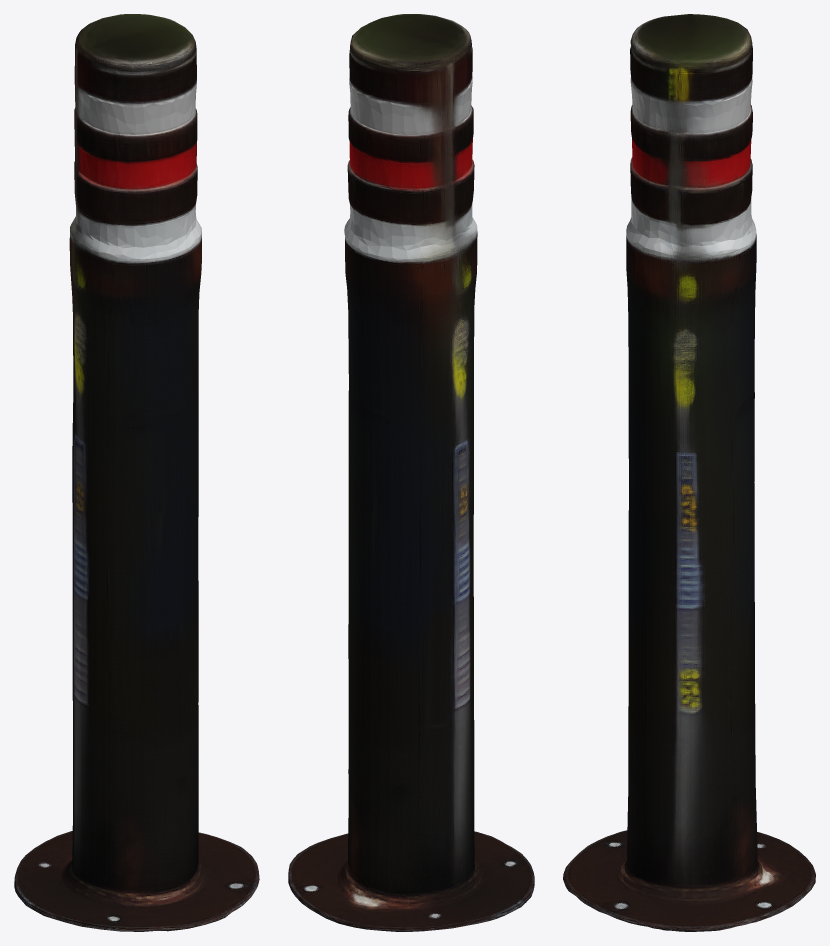
File: siyah_duba34.glb
3 views of the same model, side by side, from view 1: azimuth 30°, elevation 25°; view 2: azimuth 150°, elevation 25°; view 3: azimuth 270°, elevation 25° (orthographic).
Visible parts, largest first — view 1: world; view 2: world; view 3: world.
Boxes of the visible parts, box(x1,y1,x2,y2) form: world: box(14, 14, 259, 931); world: box(288, 14, 534, 931); world: box(563, 14, 815, 931).
Size of the model in its own units: 0.2729 by 0.9989 by 0.2712.
1 material, 1 textured.
